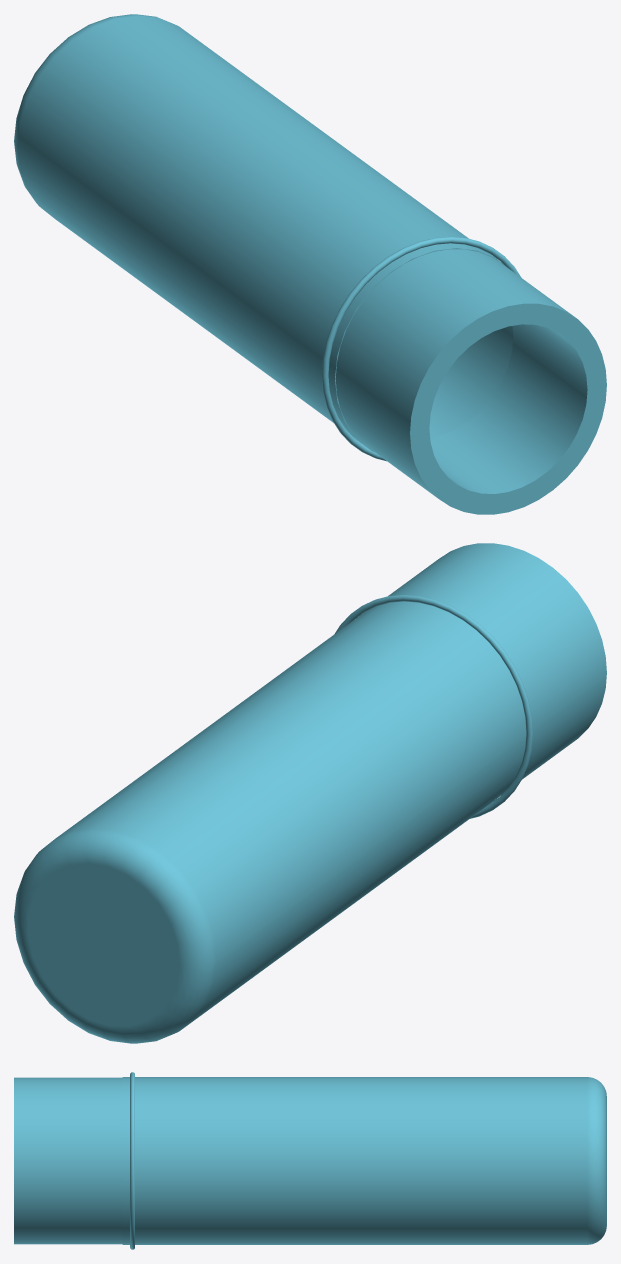
File: polypropene-base-2.obj
3 views of the same model, one above another, from view 1: azimuth 30°, elevation 25°; view 2: azimuth 150°, elevation 25°; view 3: azimuth 270°, elevation 25° (orthographic). The views are drawn at different scales.
Parts seen in each view (by area): view 1: Body1, Body2, Body3; view 2: Body1, Body2, Body3; view 3: Body1, Body2, Body3.
Part boxes in pixels (x1=…): Body1: x1=14, y1=14, x2=513, y2=451; Body2: x1=335, y1=249, x2=606, y2=514; Body3: x1=322, y1=236, x2=521, y2=461; Body1: x1=14, y1=599, x2=533, y2=1043; Body2: x1=388, y1=543, x2=606, y2=779; Body3: x1=335, y1=594, x2=532, y2=818; Body1: x1=122, y1=1077, x2=606, y2=1244; Body2: x1=14, y1=1077, x2=122, y2=1244; Body3: x1=130, y1=1072, x2=134, y2=1249.
Bounding box in the file's own units: 1.8 × 1.79 × 6.
